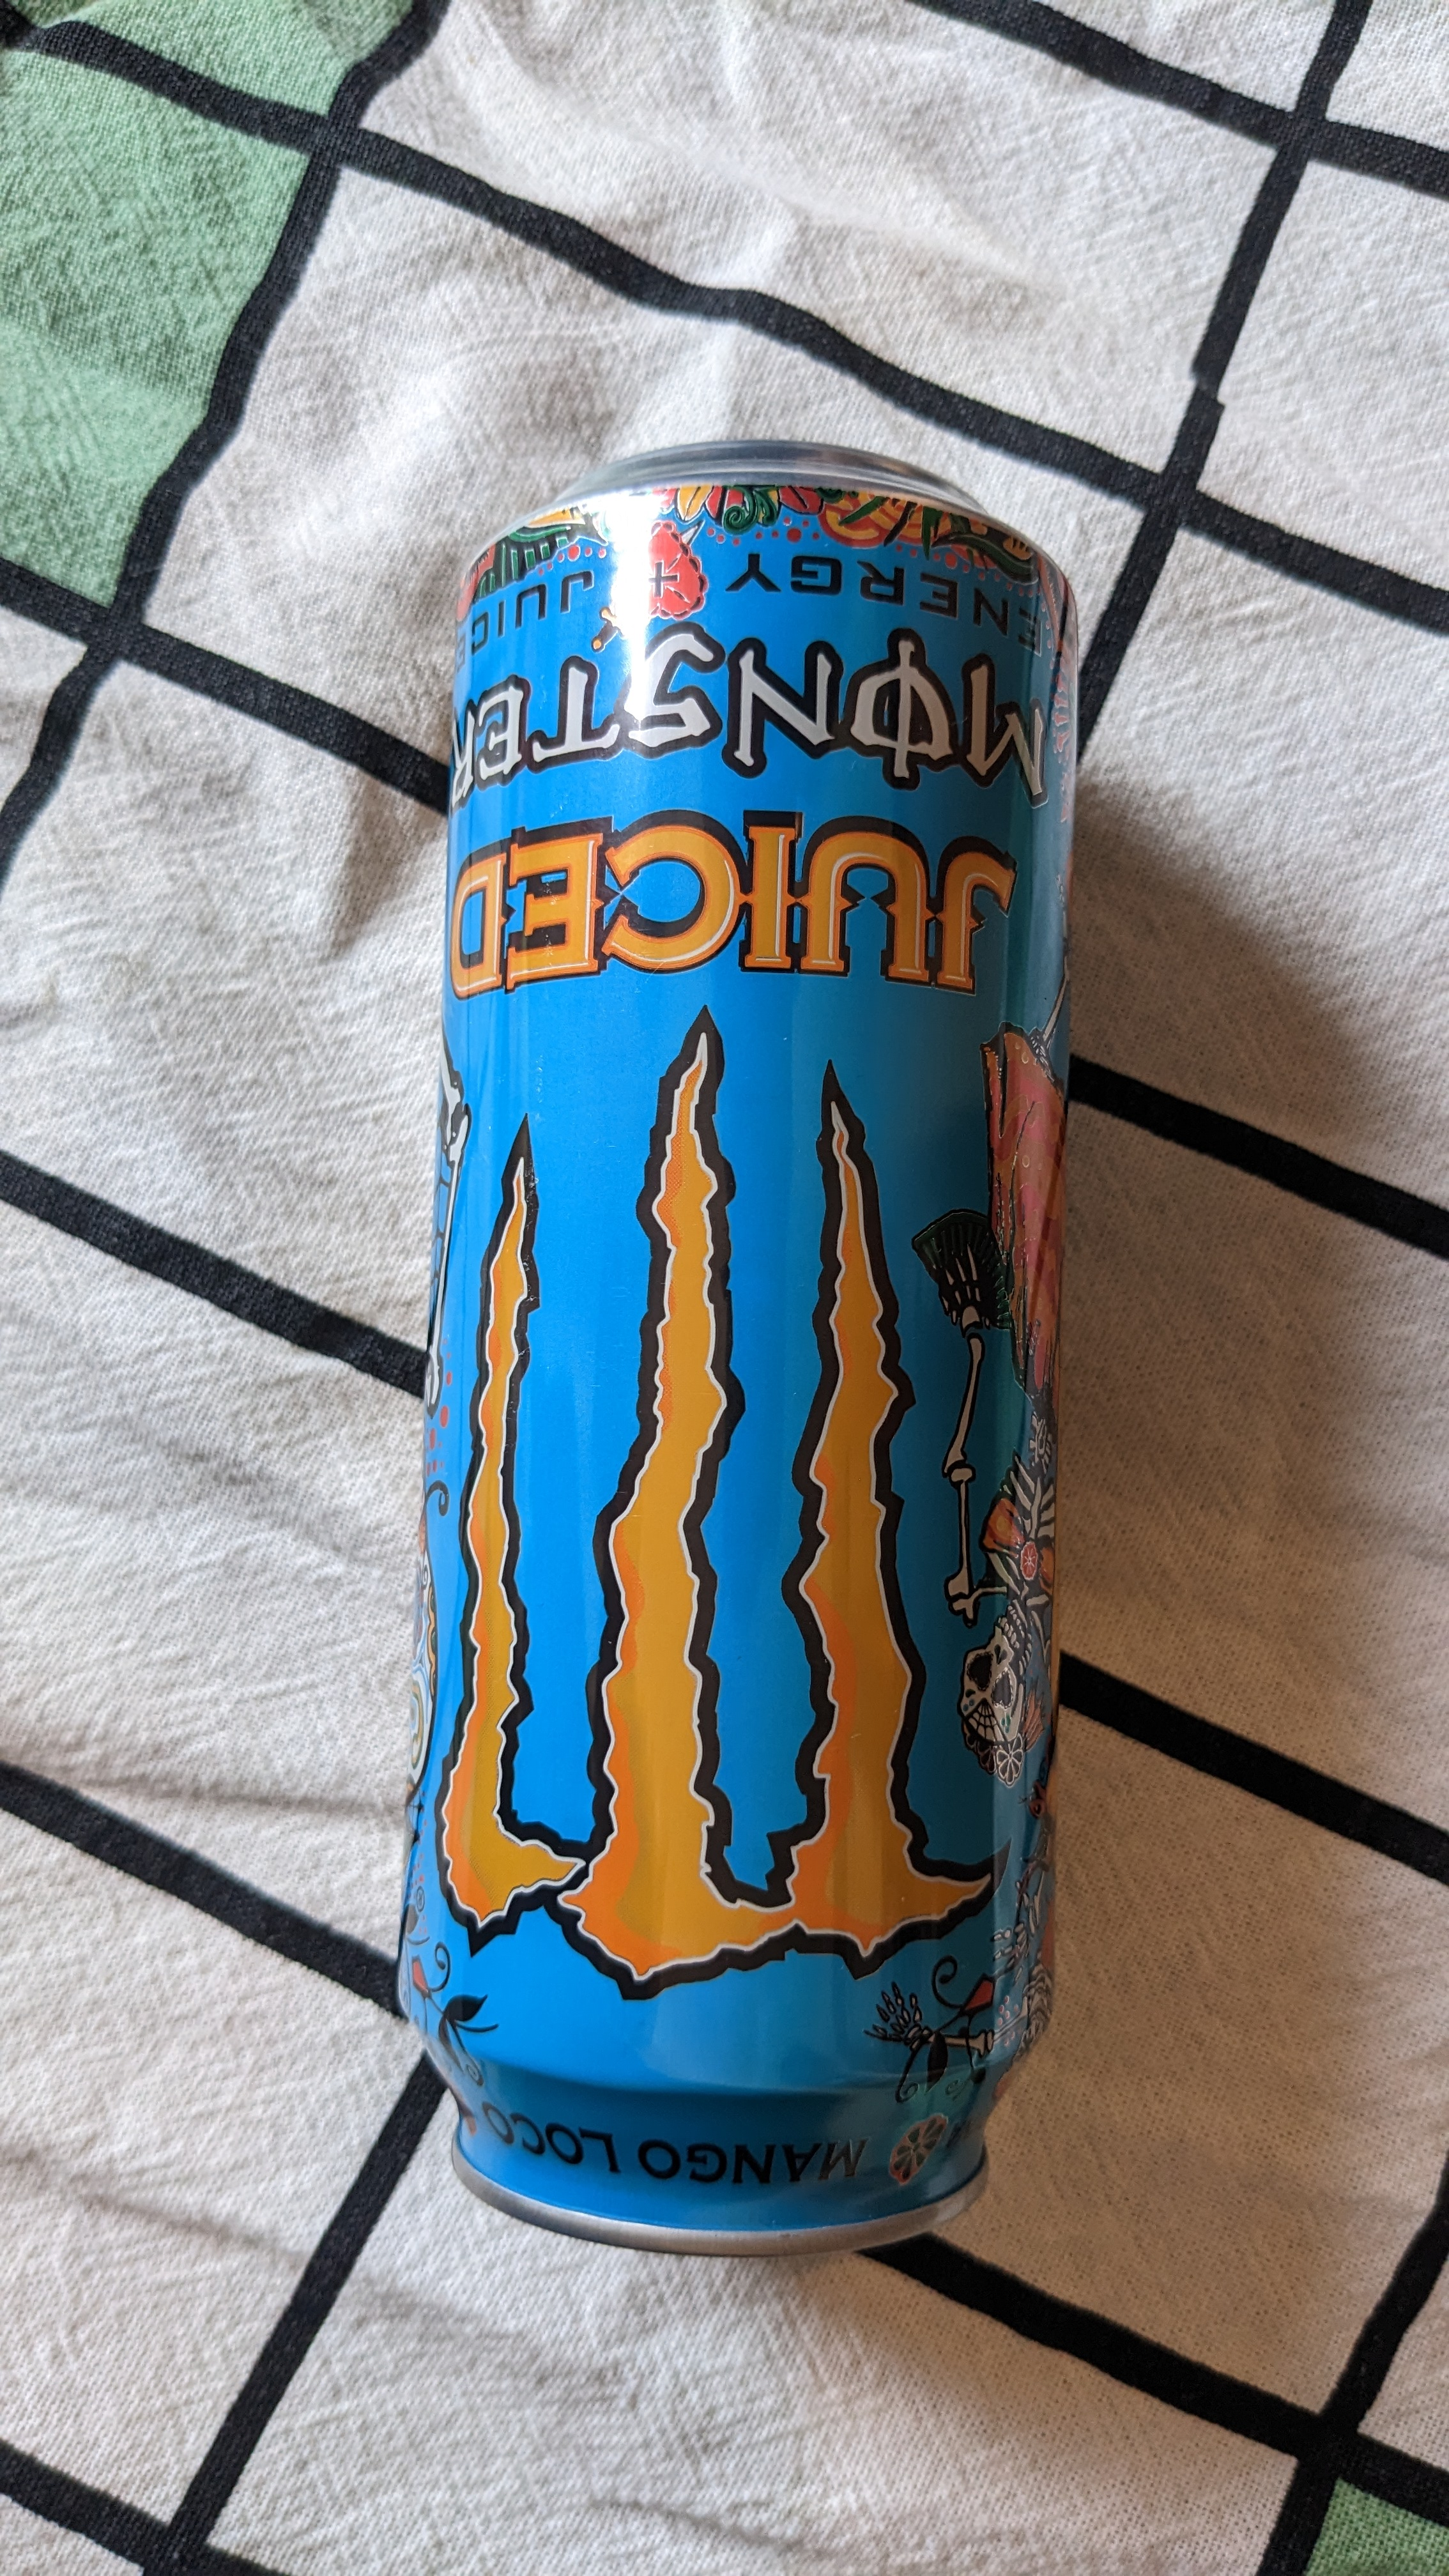monster: (405, 405, 1079, 2288)
